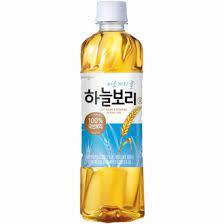haneulbori: (64, 2, 156, 222)
